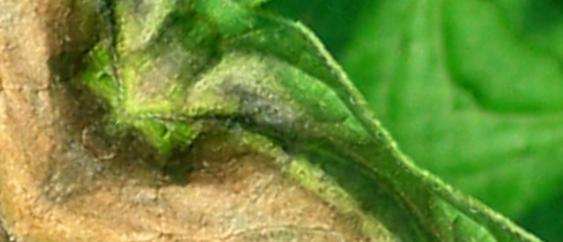Tomato leaf late blight: (3, 0, 559, 242)
